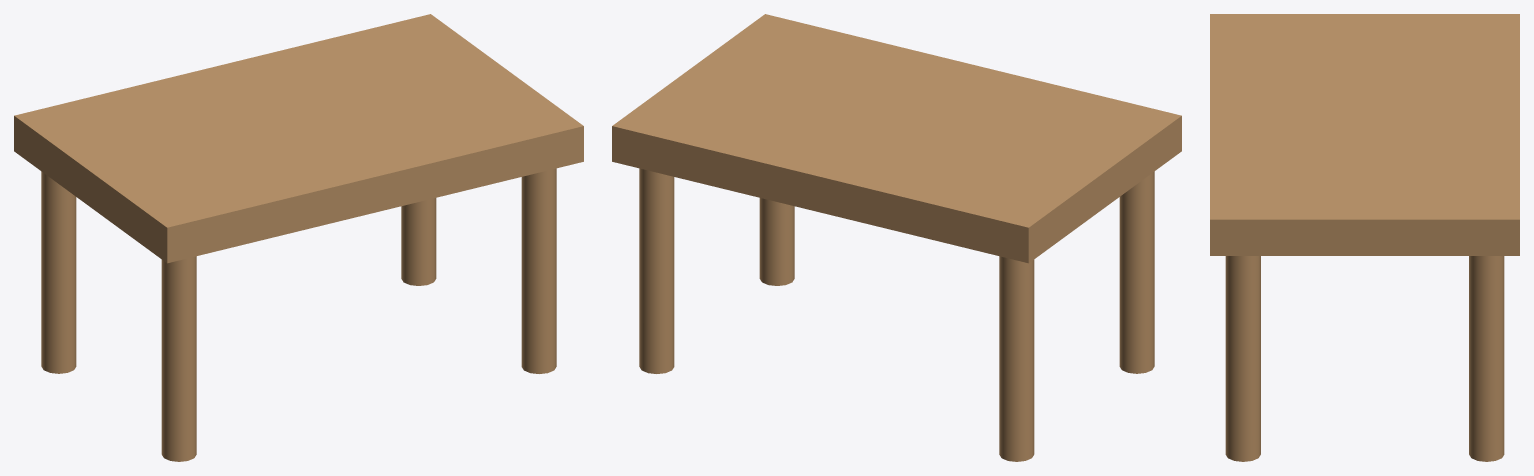
The model's file is mesa.glb.
3 views of the same model, side by side, from view 1: azimuth 30°, elevation 25°; view 2: azimuth 150°, elevation 25°; view 3: azimuth 270°, elevation 25° (orthographic).
Size of the model in its own units: 2.2 by 1.24 by 1.4.
